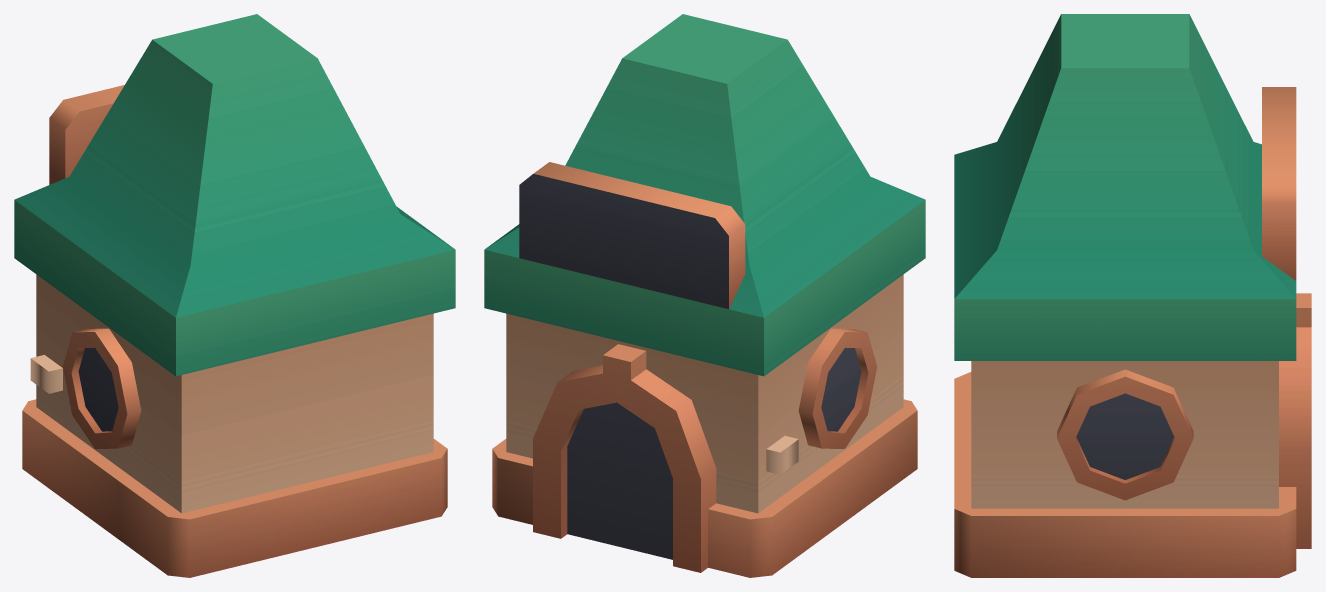
Rendered from ride-entrance.glb.
The picture shows the model from 3 angles, left to right: view 1: azimuth 30°, elevation 25°; view 2: azimuth 150°, elevation 25°; view 3: azimuth 270°, elevation 25°; orthographic projection. The views are drawn at different scales.
Visible parts, largest first — view 1: ride-entrance; view 2: ride-entrance, OuterShell; view 3: ride-entrance, OuterShell.
Boxes of the visible parts, x1,y1,x2,y2 form: ride-entrance: (14,14,455,577); ride-entrance: (484,14,925,577); OuterShell: (533,344,716,572); ride-entrance: (954,14,1296,577); OuterShell: (1279,293,1311,548).
Bounding box in the file's own units: 1 × 1.5 × 1.05.
1 material, 1 textured.
